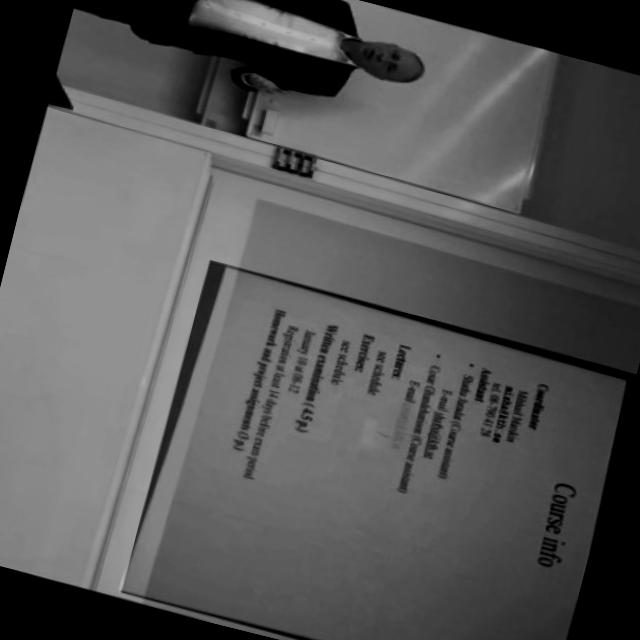Instructor: (166, 0, 452, 124)
Slide: (136, 266, 622, 640)
White-board: (235, 0, 552, 213)
